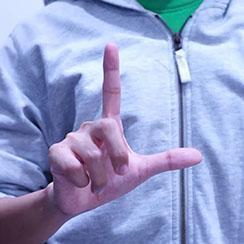L: (3, 6, 214, 211)
